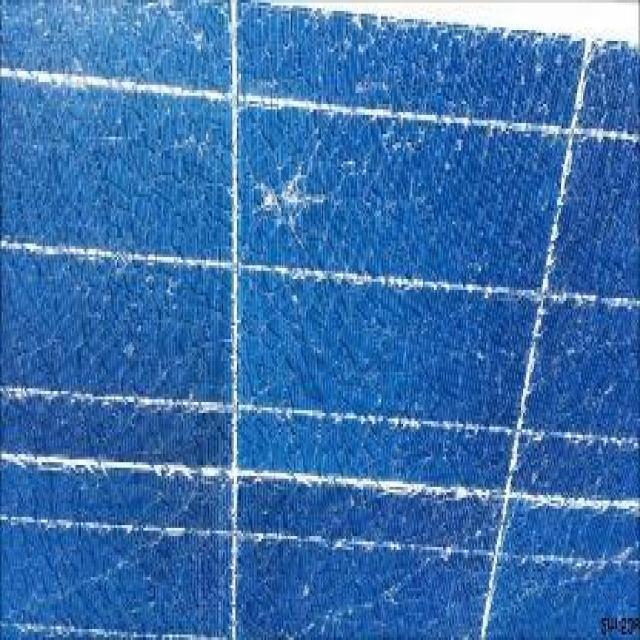cracked: (3, 10, 640, 638)
